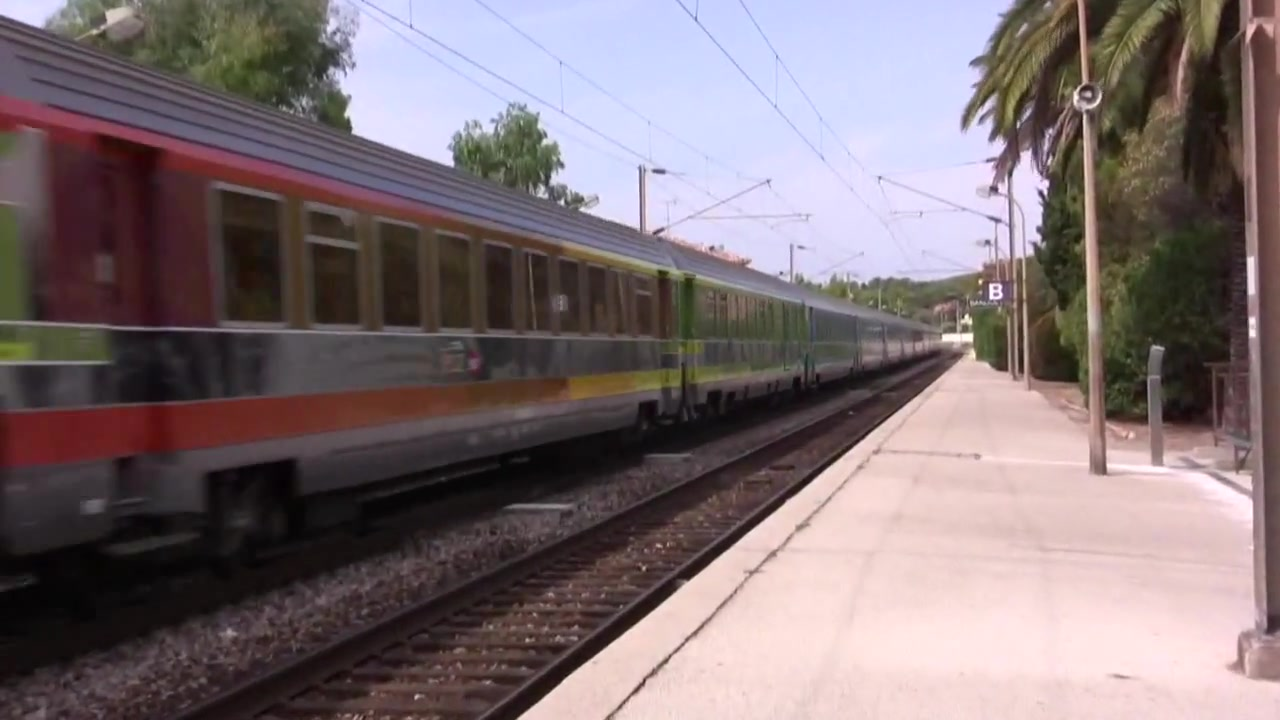train: (1, 11, 950, 588)
